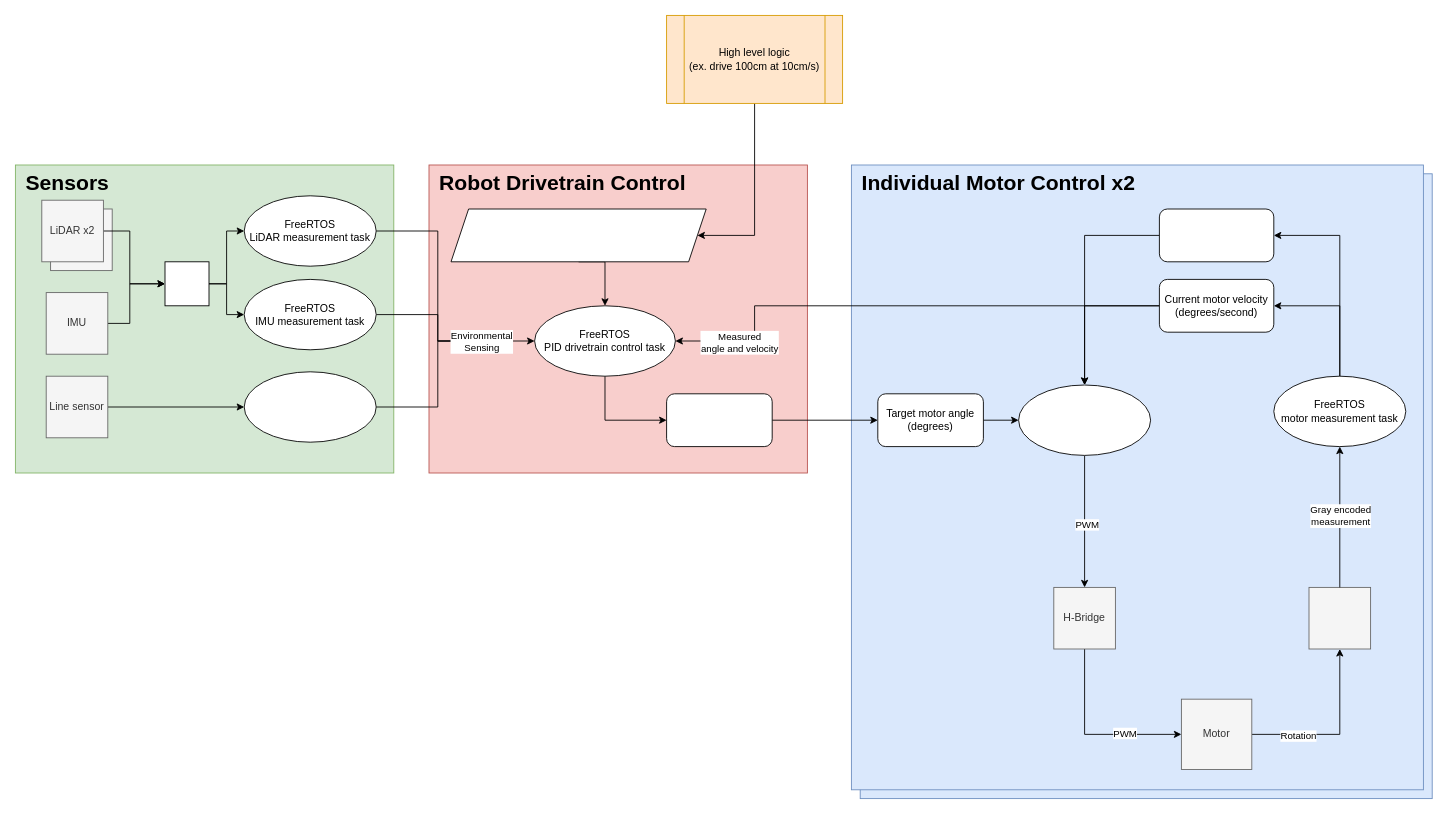
Image size: 1448x814. Some labels were removed from this diagram. Here are the shapes that lost their labels. From the top down, the box of each, then its label:
(450, 208, 706, 262): Convert distances to per wheel total rotation
(1159, 208, 1274, 262): Current motor angle (degrees)
(164, 261, 209, 306): I2C Bus
(243, 371, 376, 442): FreeRTOS tape measurement task
(666, 393, 772, 447): Temporary target motor angle (degrees)
(1018, 384, 1151, 455): FreeRTOS PID motor control task
(1308, 587, 1371, 649): Hall Effect Encoder
